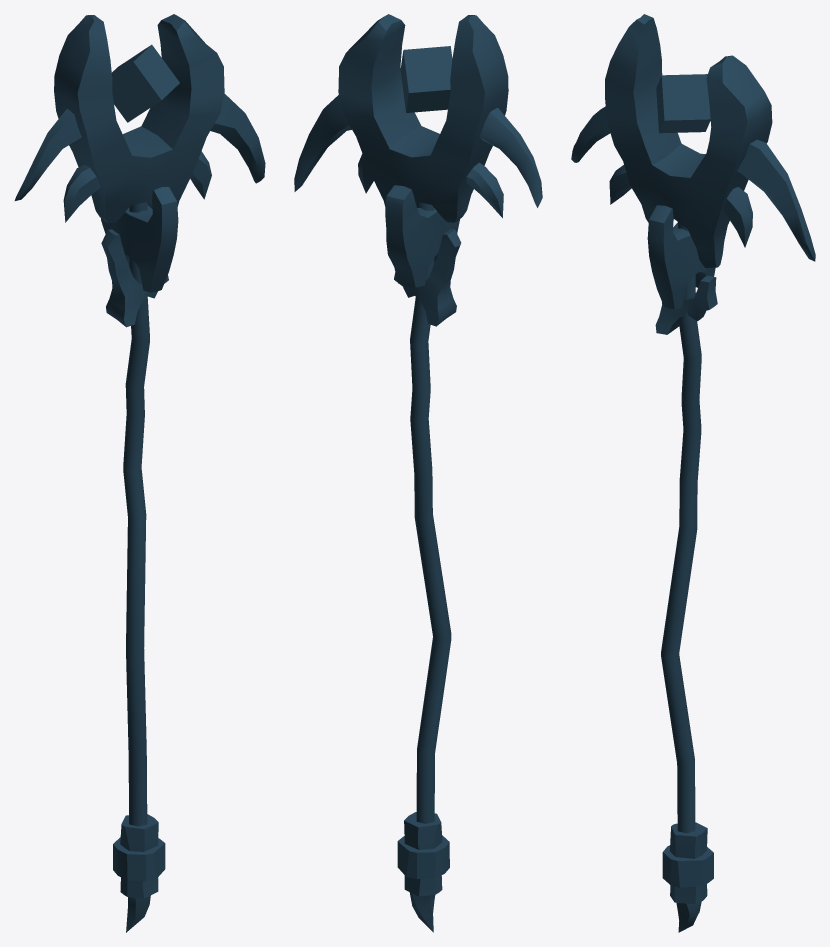
The model's file is Necromancer_Weapon_Final.fbx.
3 views of the same model, side by side, from view 1: azimuth 30°, elevation 25°; view 2: azimuth 150°, elevation 25°; view 3: azimuth 330°, elevation 25° (orthographic).
Visible parts, largest first — view 1: Necromancer_Weapon; view 2: Necromancer_Weapon; view 3: Necromancer_Weapon.
Boxes of the visible parts, x1,y1,x2,y2 form: Necromancer_Weapon: (14,14,265,932); Necromancer_Weapon: (294,14,542,932); Necromancer_Weapon: (571,14,815,932).
Bounding box in the file's own units: 64.42 × 231 × 28.88.
